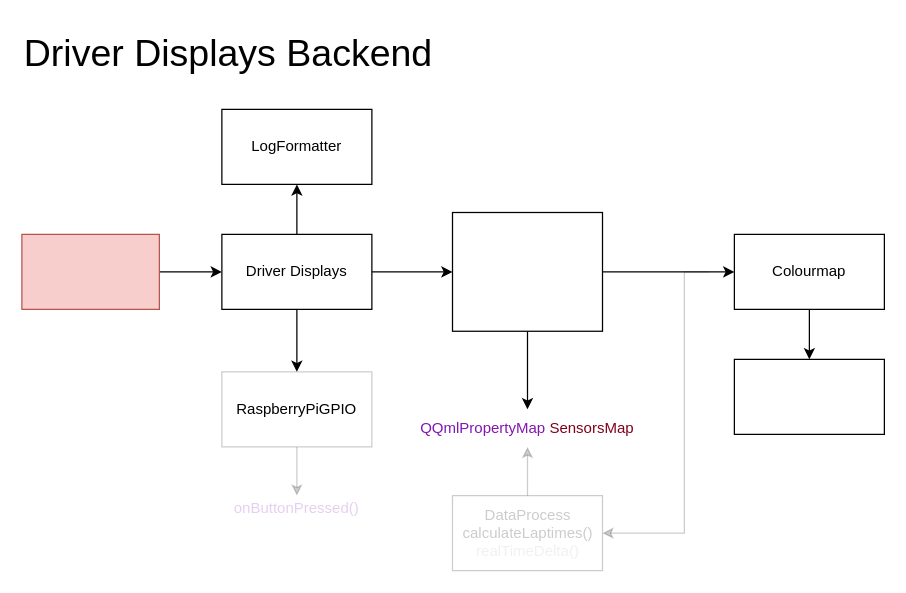
Some shapes in this 906 by 593 pixel diagram are drawn without their labels. Each missing label, with the box of its shape:
CAN Bus (Interfaces) / Unix Pipe: (21, 233, 159, 309)
CanParser dbcParser() canListener(): (451, 211, 602, 331)
QQmlPropertyMap tyreTypeColorMap: (733, 358, 884, 434)
